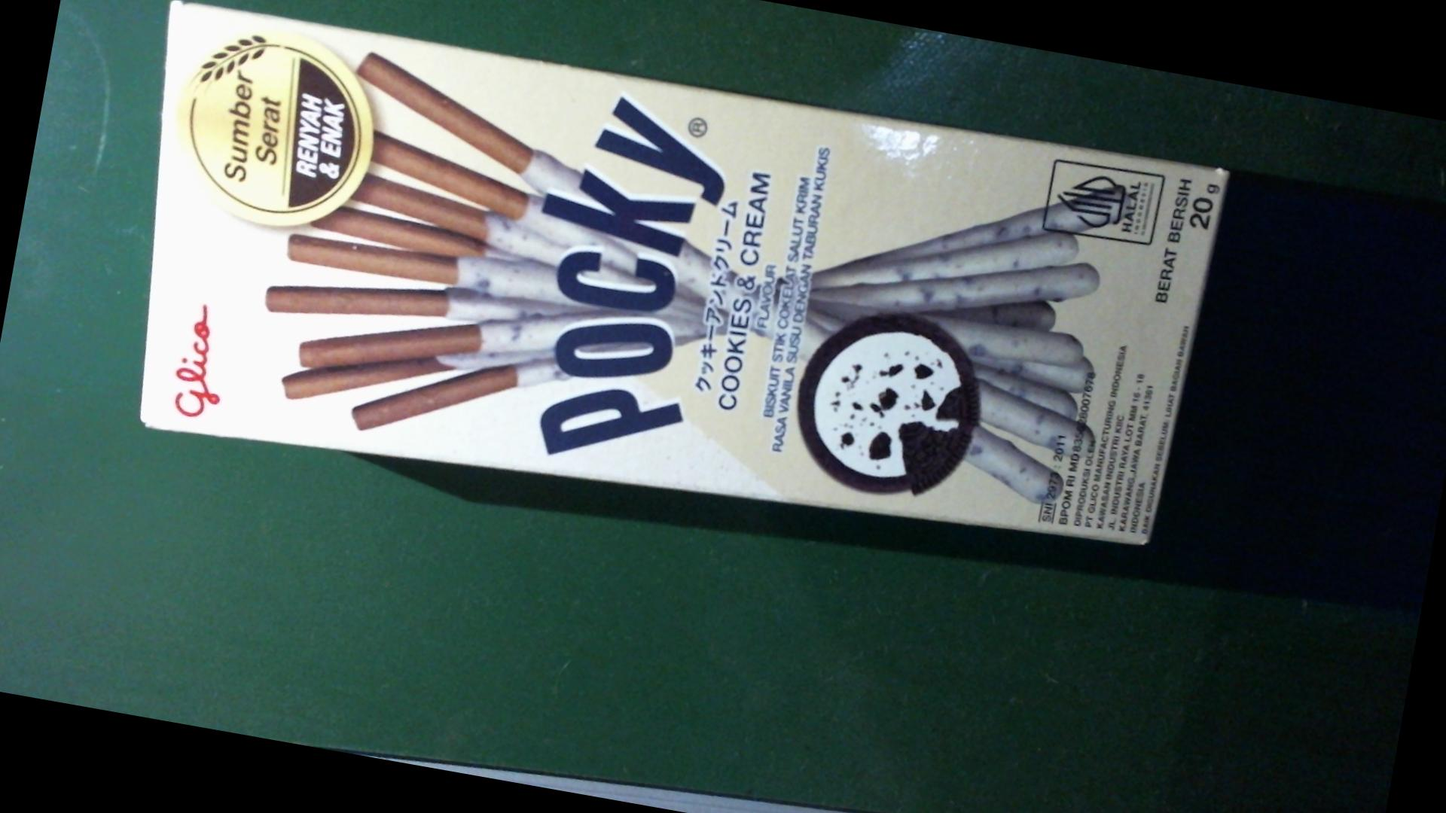Kertas: (106, 0, 1225, 617)
